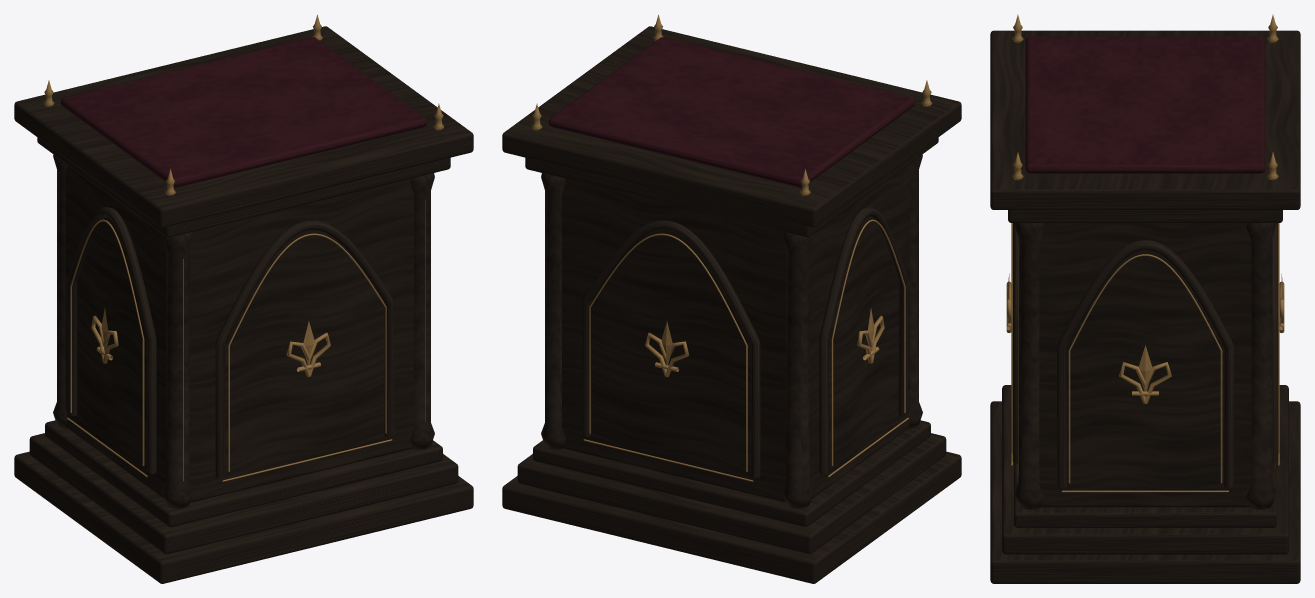
Rendered from gotico_pedestal_gotico.glb.
The picture shows the model from 3 angles, left to right: view 1: azimuth 30°, elevation 25°; view 2: azimuth 150°, elevation 25°; view 3: azimuth 270°, elevation 25°; orthographic projection. The views are drawn at different scales.
Visible parts, largest first — view 1: pedestal_gotico; view 2: pedestal_gotico; view 3: pedestal_gotico.
Boxes of the visible parts, box(x1,y1,x2,y2) form: pedestal_gotico: box(14, 14, 473, 583); pedestal_gotico: box(502, 14, 961, 583); pedestal_gotico: box(990, 14, 1300, 583).
Size of the model in its own units: 0.65 by 0.796 by 0.53.
Materials: 4 (3 with a texture image).
